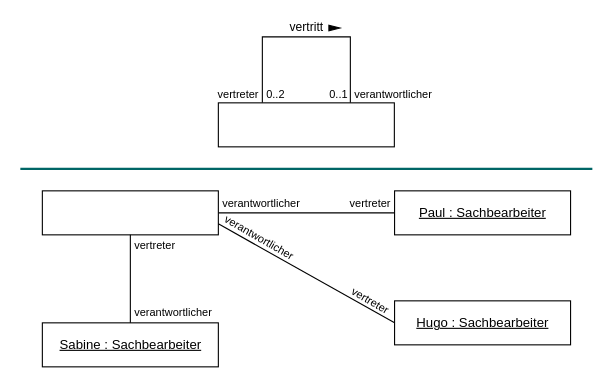
Some shapes in this 613 by 386 pixel diagram are drawn without their labels. The shapes that lost their labels are listed below. From the top down, each one's box as (x1, y1, x2, y2) in pixels, then its label:
(217, 102, 394, 147): Sachbearbeiter
(41, 190, 218, 235): Max : Sachbearbeiter
